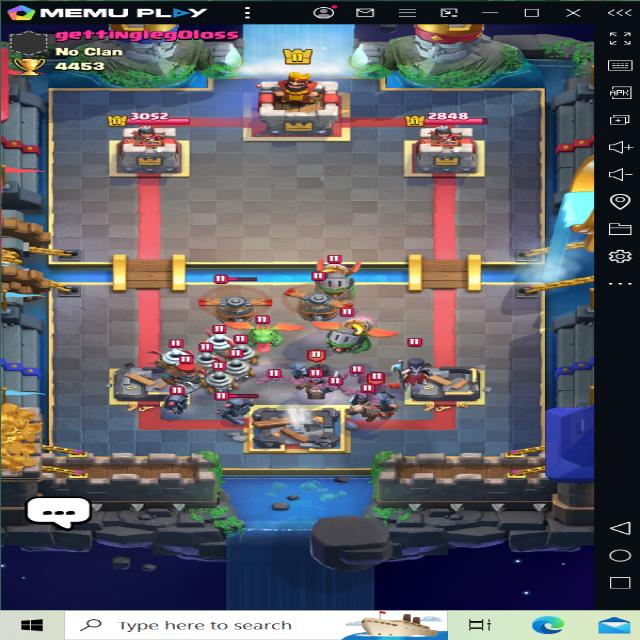baby-dragon: (230, 311, 298, 345)
bats: (327, 369, 360, 394), (348, 379, 377, 400), (296, 364, 328, 382), (253, 370, 286, 385), (344, 364, 366, 381)
dark-prince: (349, 376, 415, 430), (285, 338, 346, 381)
flying-machine: (185, 275, 274, 330), (287, 279, 349, 328)
hunter: (160, 356, 211, 388)
inferno-dragon: (302, 258, 372, 309), (330, 311, 383, 363)
mini-pekka: (206, 394, 258, 424), (143, 392, 195, 413)
night-witch: (394, 350, 445, 392)
zappie: (150, 336, 201, 368), (209, 350, 255, 379), (225, 336, 265, 365), (198, 359, 236, 389), (179, 344, 220, 370), (200, 326, 239, 352)
